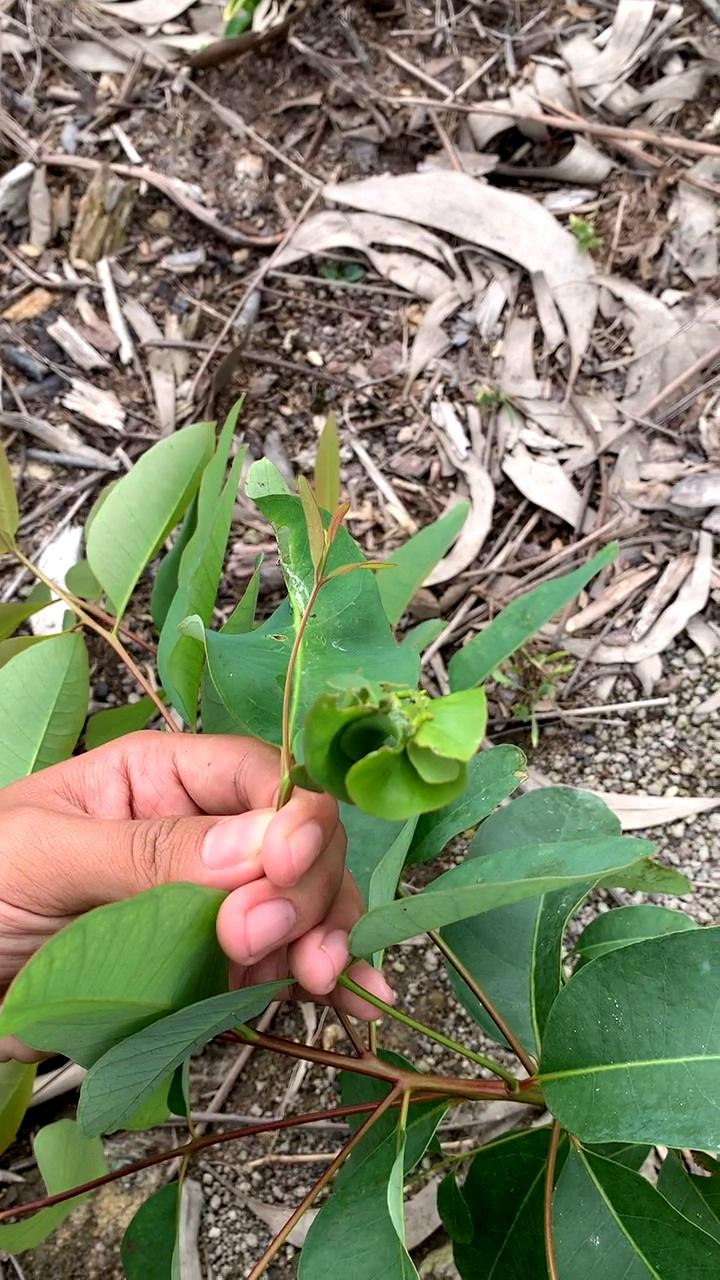Leaf Roller - Leaf: (273, 653, 516, 834)
